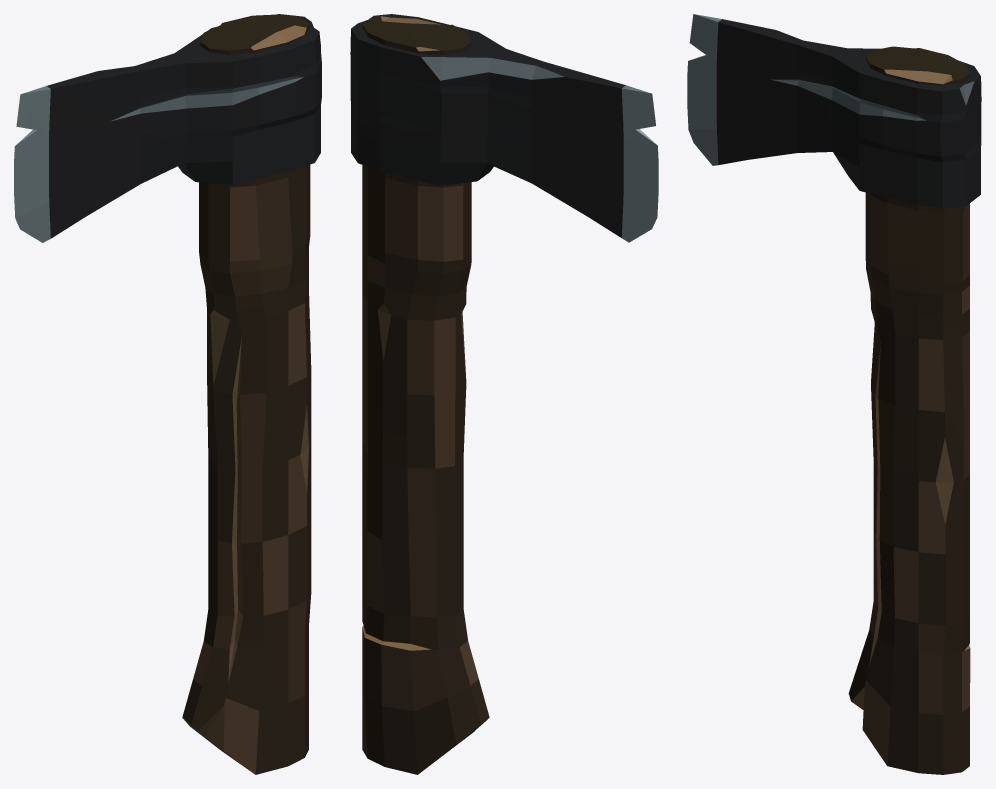
Rendered from SM_Camping_Axe.glb.
3 renders of one model, left to right at view 1: azimuth 30°, elevation 25°; view 2: azimuth 150°, elevation 25°; view 3: azimuth 330°, elevation 25°, orthographic. The views are drawn at different scales.
Visible parts, largest first — view 1: SM_Camping_Axe; view 2: SM_Camping_Axe; view 3: SM_Camping_Axe.
Part boxes in pixels (x1,y1,x2,y2): SM_Camping_Axe: [14, 14, 321, 774]; SM_Camping_Axe: [350, 14, 658, 774]; SM_Camping_Axe: [687, 14, 981, 774].
Bounding box in the file's own units: 0.1355 × 0.3148 × 0.0323.
Materials: 1 (1 with a texture image).
